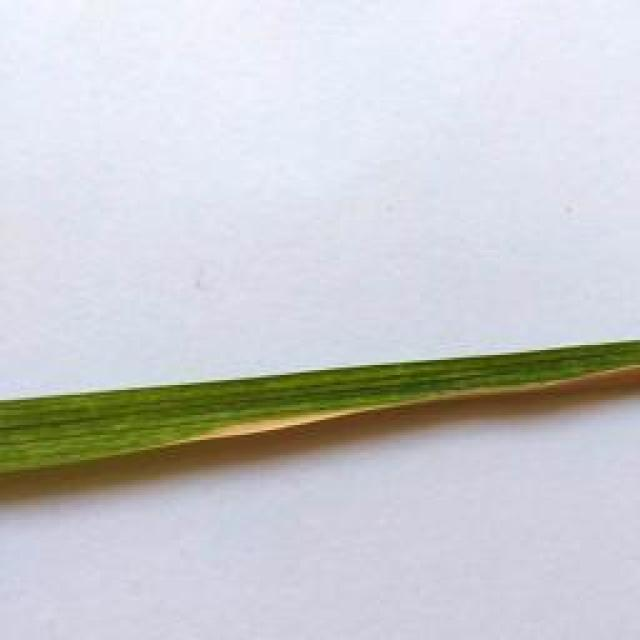Bacterial_Blight: (140, 389, 410, 460)
